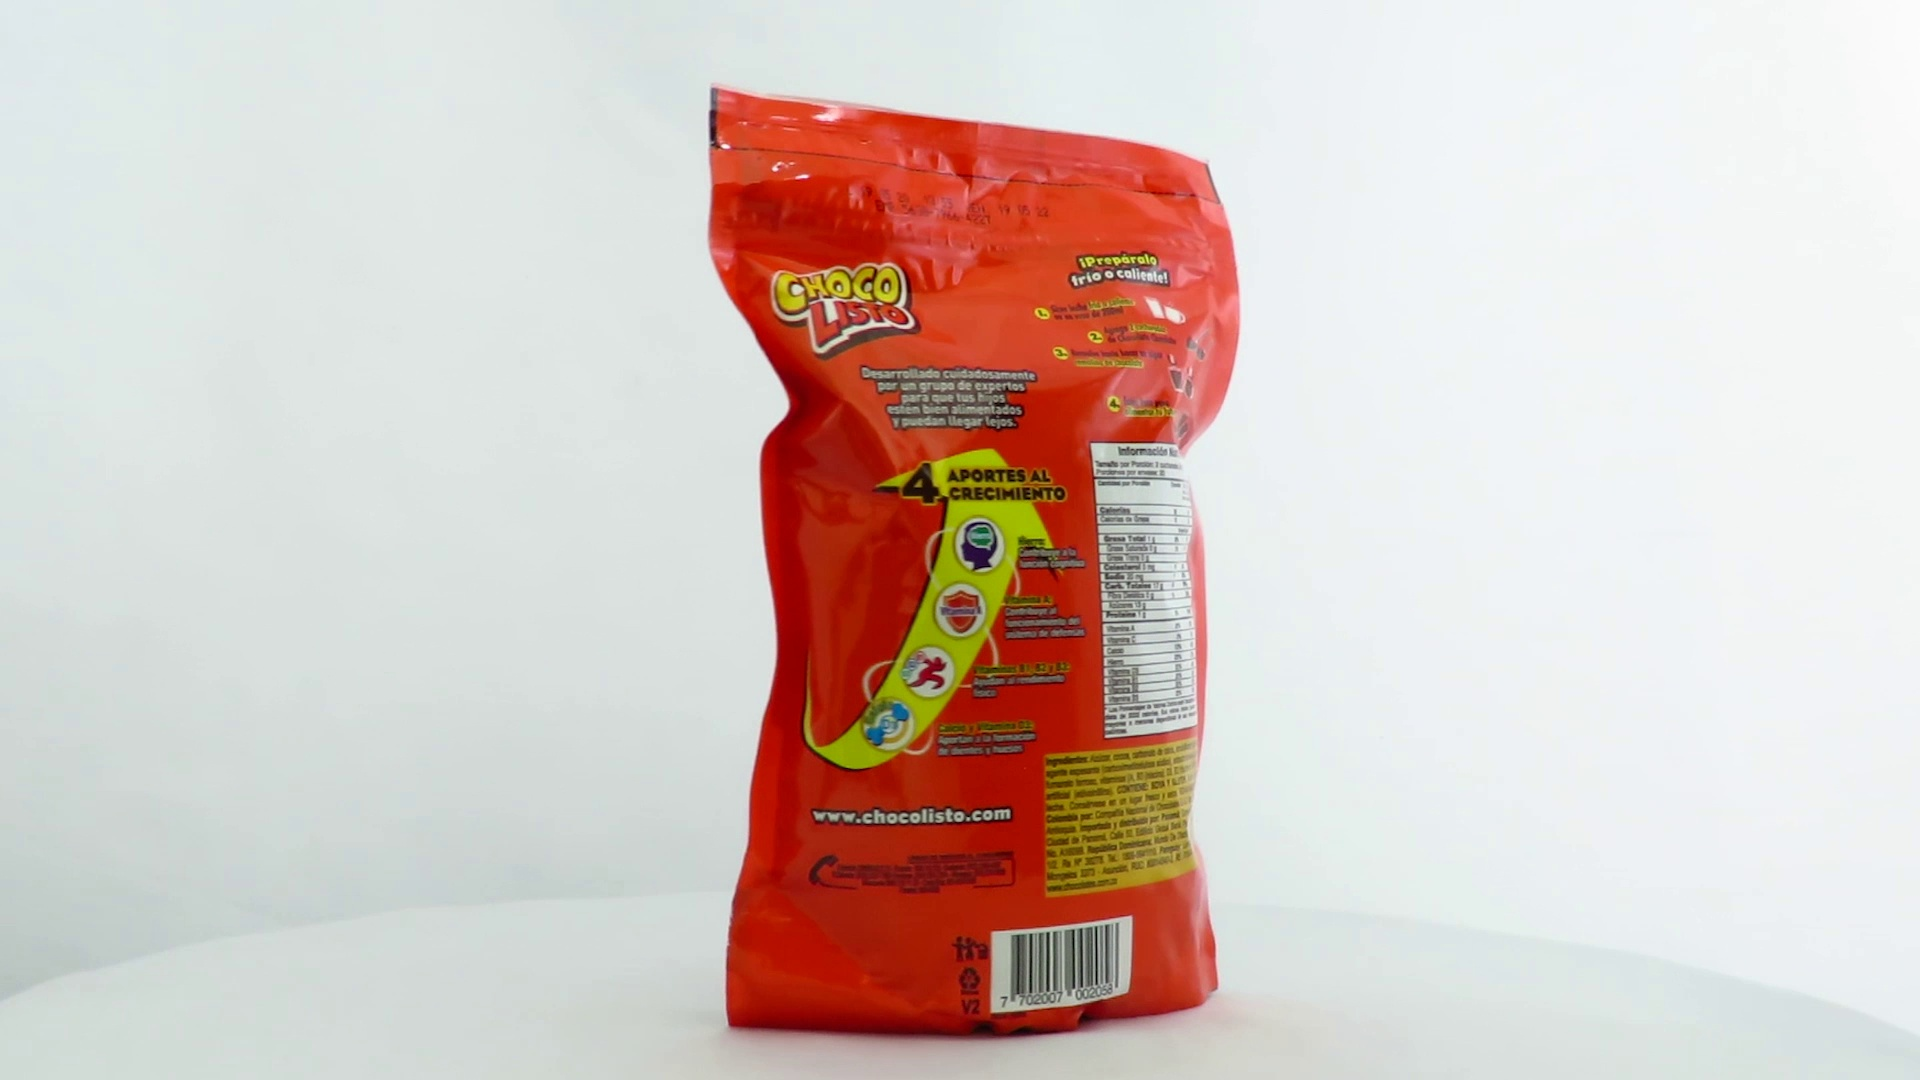COL0170103DYP40000: (703, 82, 1246, 1047)
